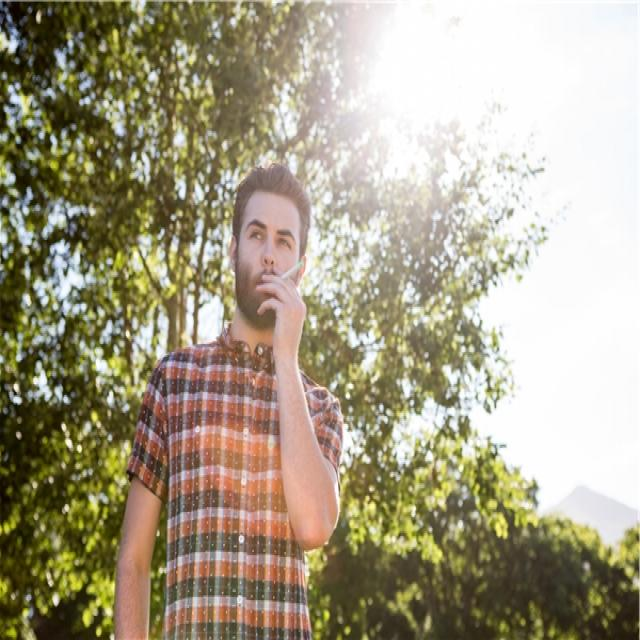smoking: (276, 259, 306, 285)
